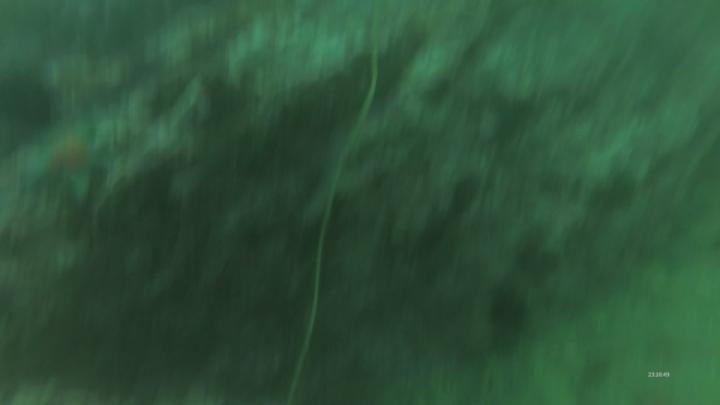echinus: (1, 67, 61, 134), (484, 283, 531, 346)
starfish: (18, 124, 111, 207)
